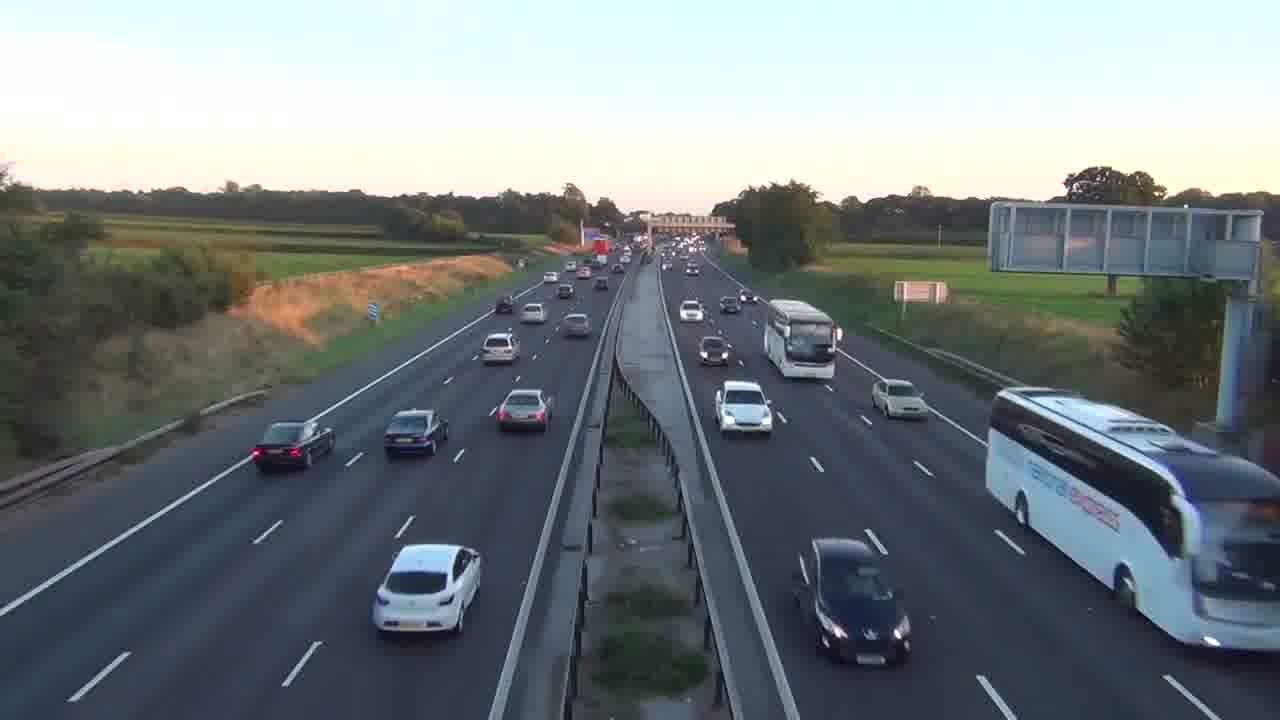bus: (984, 383, 1280, 653), (762, 297, 840, 380)
car: (792, 528, 913, 667), (370, 543, 483, 641), (251, 419, 336, 473), (714, 379, 774, 439), (383, 407, 450, 457), (491, 387, 550, 433), (870, 377, 929, 421), (478, 330, 518, 365), (697, 335, 740, 367), (559, 312, 592, 339), (515, 300, 548, 325), (679, 298, 705, 324), (718, 294, 741, 314)
